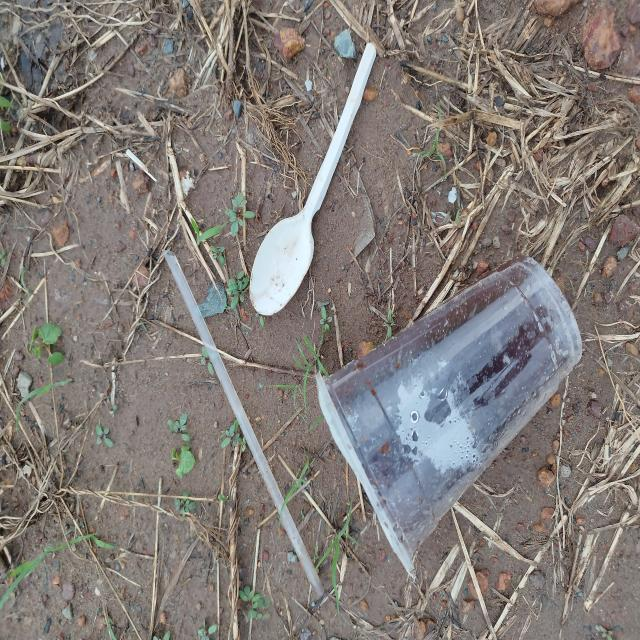drinking straw: (164, 250, 326, 597)
plastic glass: (316, 257, 585, 580)
plastic utensil: (246, 44, 376, 317)
